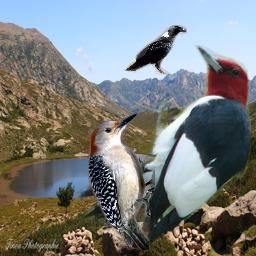Crow: (124, 25, 187, 75)
Woodpecker: (76, 45, 251, 245), (88, 113, 155, 250)
